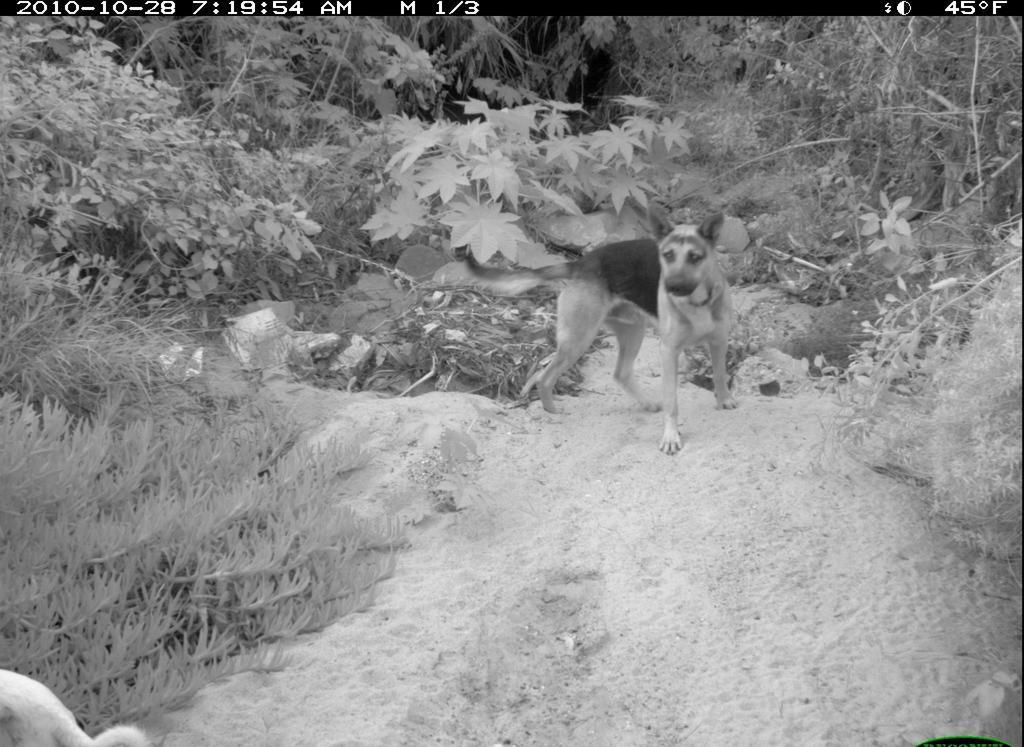dog: (461, 209, 739, 457)
